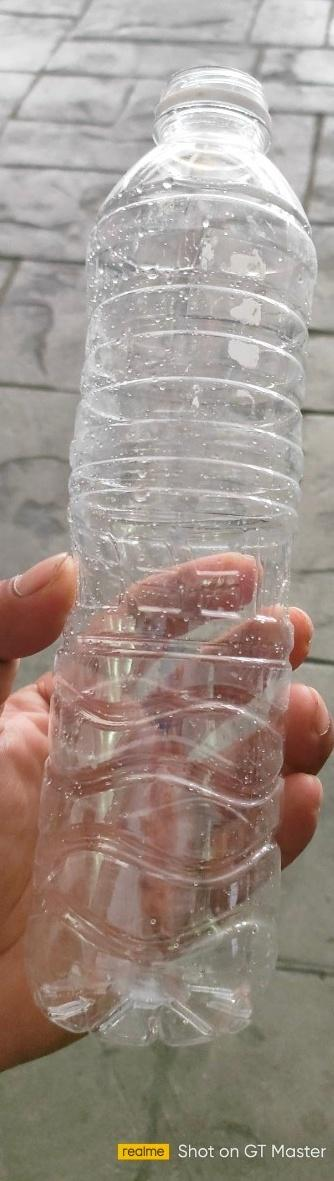plastic_bottle: (29, 65, 319, 1043)
